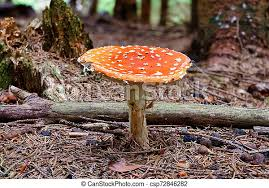Amanita muscaria: (73, 43, 196, 151)
